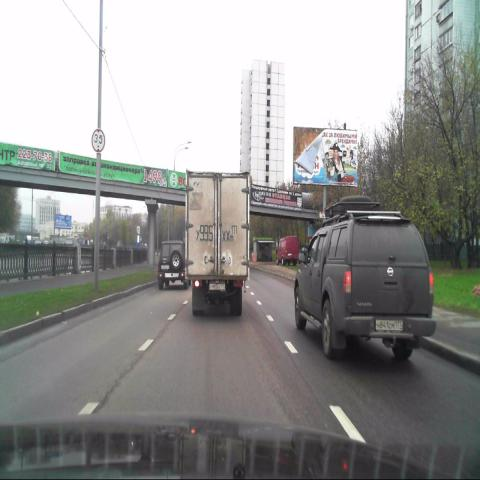3_13: (91, 127, 106, 153)
